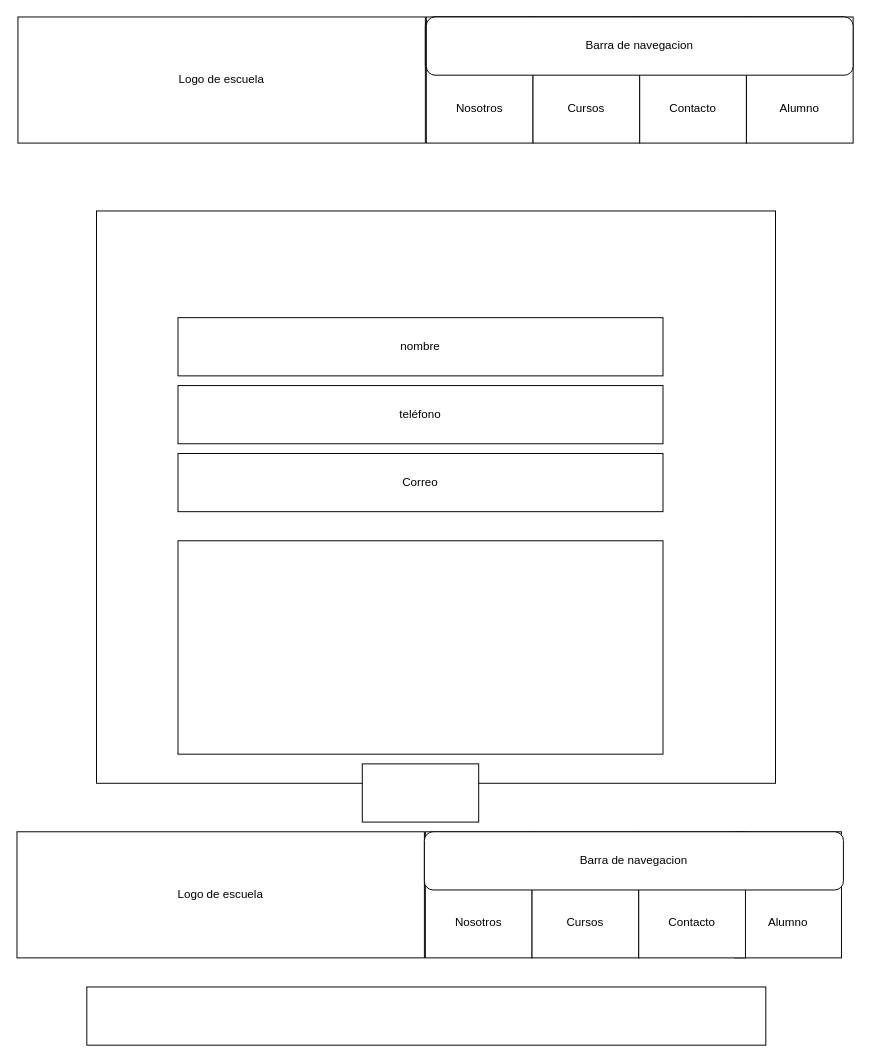
Image size: 870x1062. Some labels were removed from this diagram. The shapes that lost their labels are listed below. From the top down, each one's centre as x and y in pixels, then its label:
the point at 420,647: Mensaje
the point at 420,792: Inscribete
the point at 426,1015: redes sociales
